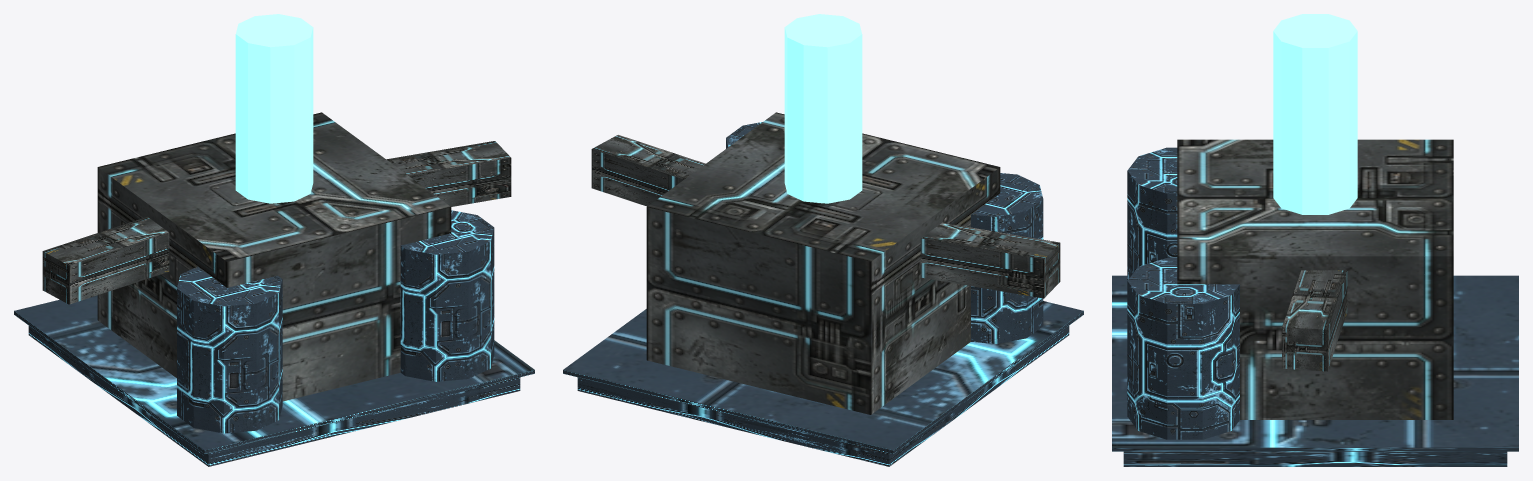
Rendered from eco-004.glb.
3 renders of one model, left to right at view 1: azimuth 30°, elevation 25°; view 2: azimuth 150°, elevation 25°; view 3: azimuth 270°, elevation 25°, orthographic. The views are drawn at different scales.
Visible parts, largest first — view 1: ECO004_MineralExtractor; view 2: ECO004_MineralExtractor; view 3: ECO004_MineralExtractor.
Boxes of the visible parts, box(x1,y1,x2,y2) form: ECO004_MineralExtractor: box(14, 14, 534, 466); ECO004_MineralExtractor: box(563, 14, 1083, 466); ECO004_MineralExtractor: box(1112, 14, 1518, 466).
Size of the model in its own units: 7.26 by 5.1 by 5.3.
Materials: 3 (2 with a texture image).
